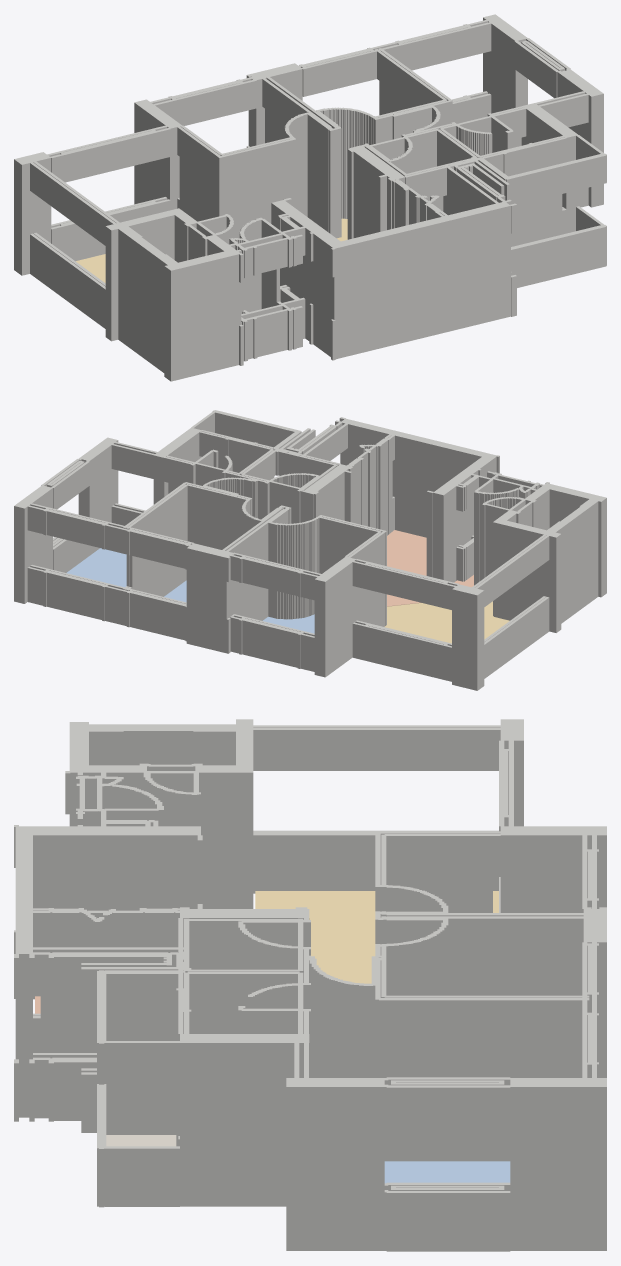
3 renders of one model, top to bottom at view 1: azimuth 30°, elevation 25°; view 2: azimuth 150°, elevation 25°; view 3: azimuth 270°, elevation 25°, orthographic. The views are drawn at different scales.
Visible parts, largest first — view 1: walls, room:living:8; view 2: walls, room:living:8, room:kitchen:5, room:bedroom:0, room:bedroom:7; view 3: walls, room:living:8, room:bedroom:0, room:other:13.
Part boxes in pixels (<box>): walls: <box>14,14,606,381</box>; room:living:8: <box>76,218,347,282</box>; walls: <box>14,410,606,690</box>; room:living:8: <box>384,601,509,643</box>; room:kitchen:5: <box>387,530,473,606</box>; room:bedroom:0: <box>66,548,126,587</box>; room:bedroom:7: <box>263,614,314,633</box>; walls: <box>14,719,606,1251</box>; room:living:8: <box>255,891,498,983</box>; room:bedroom:0: <box>384,1161,510,1183</box>; room:other:13: <box>106,1135,176,1146</box>.
Bounding box in the file's own units: 13.49 × 2.8 × 9.18.
